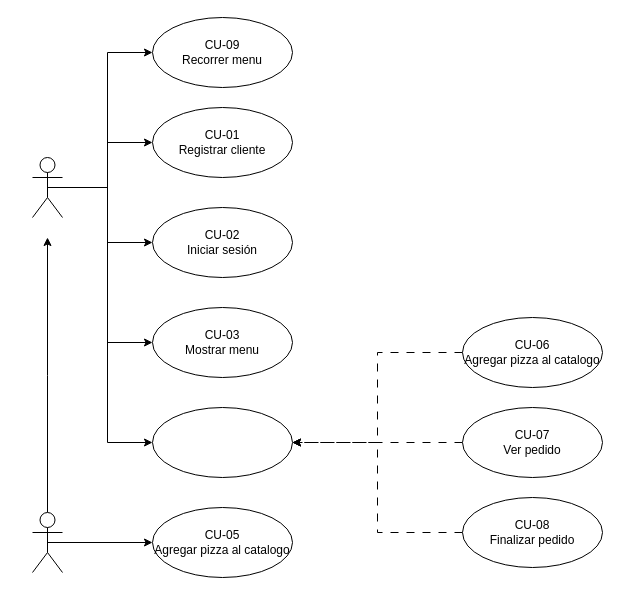
Image size: 620x611. Some labels were removed from this diagram. The shapes that lost their labels are listed below. From the top down, each one's centre as x and y in pixels, then its label:
At point 47,187: "Cliente".
At point 222,442: "CU-04 Iniciar pedido".
At point 47,542: "Cliente VIP".
